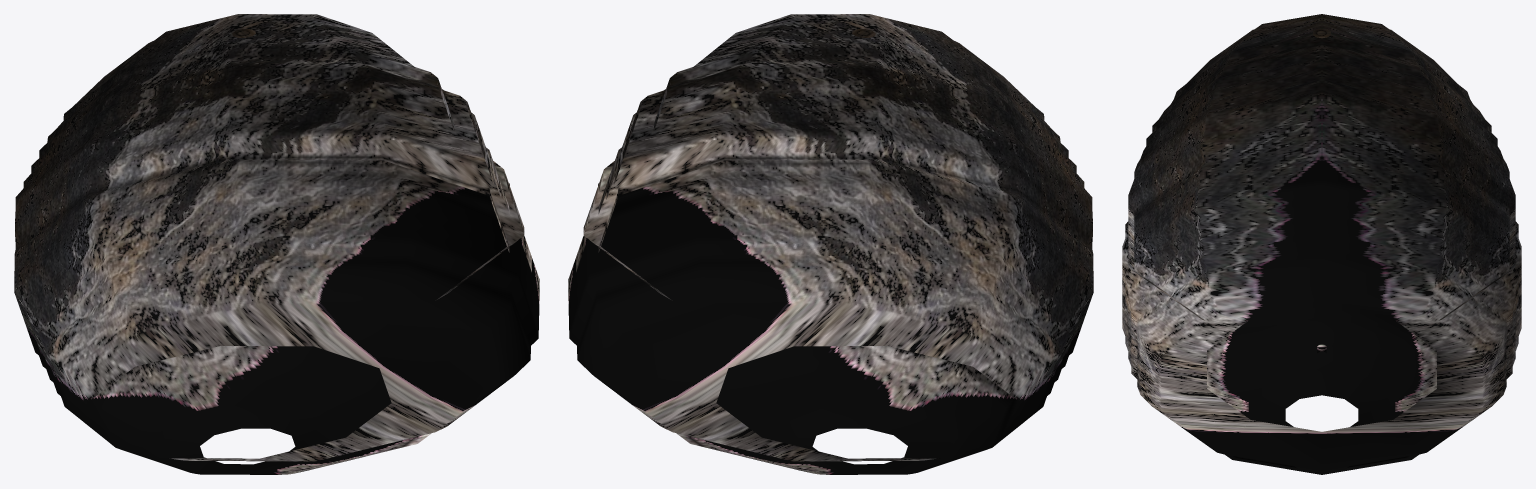
The model's file is rock_m.glb.
3 views of the same model, side by side, from view 1: azimuth 30°, elevation 25°; view 2: azimuth 150°, elevation 25°; view 3: azimuth 270°, elevation 25° (orthographic). The views are drawn at different scales.
Parts seen in each view (by area): view 1: solid; view 2: solid; view 3: solid.
Boxes of the visible parts, box(x1,y1,x2,y2) form: solid: box(14, 14, 539, 474); solid: box(568, 14, 1093, 474); solid: box(1122, 14, 1521, 474).
Size of the model in its own units: 1.22 by 1 by 0.9532.
Materials: 1 (1 with a texture image).
